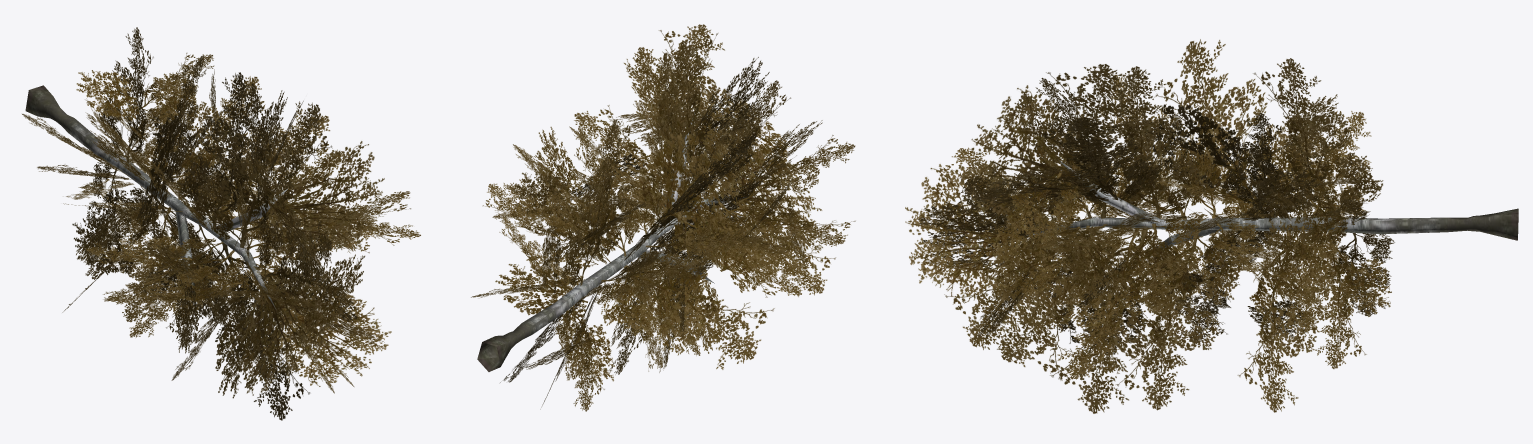
Rendered from tree2.glb.
The picture shows the model from 3 angles, left to right: view 1: azimuth 30°, elevation 25°; view 2: azimuth 150°, elevation 25°; view 3: azimuth 270°, elevation 25°; orthographic projection.
Visible parts, largest first — view 1: Tree_Branches_02_Tree_Branches_02_0.001; view 2: Tree_Branches_02_Tree_Branches_02_0.001; view 3: Tree_Branches_02_Tree_Branches_02_0.001.
Boxes of the visible parts, x1=… form: Tree_Branches_02_Tree_Branches_02_0.001: x1=22, y1=27, x2=420, y2=420; Tree_Branches_02_Tree_Branches_02_0.001: x1=471, y1=24, x2=855, y2=411; Tree_Branches_02_Tree_Branches_02_0.001: x1=905, y1=39, x2=1518, y2=413.
Size of the model in its own units: 6.62 by 7.66 by 11.87.
Materials: 2 (2 with a texture image).
